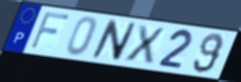0: (64, 15, 99, 58)
2: (156, 28, 194, 72)
9: (191, 32, 225, 75)
F: (28, 10, 73, 51)
N: (89, 18, 139, 63)
X: (123, 23, 167, 65)
